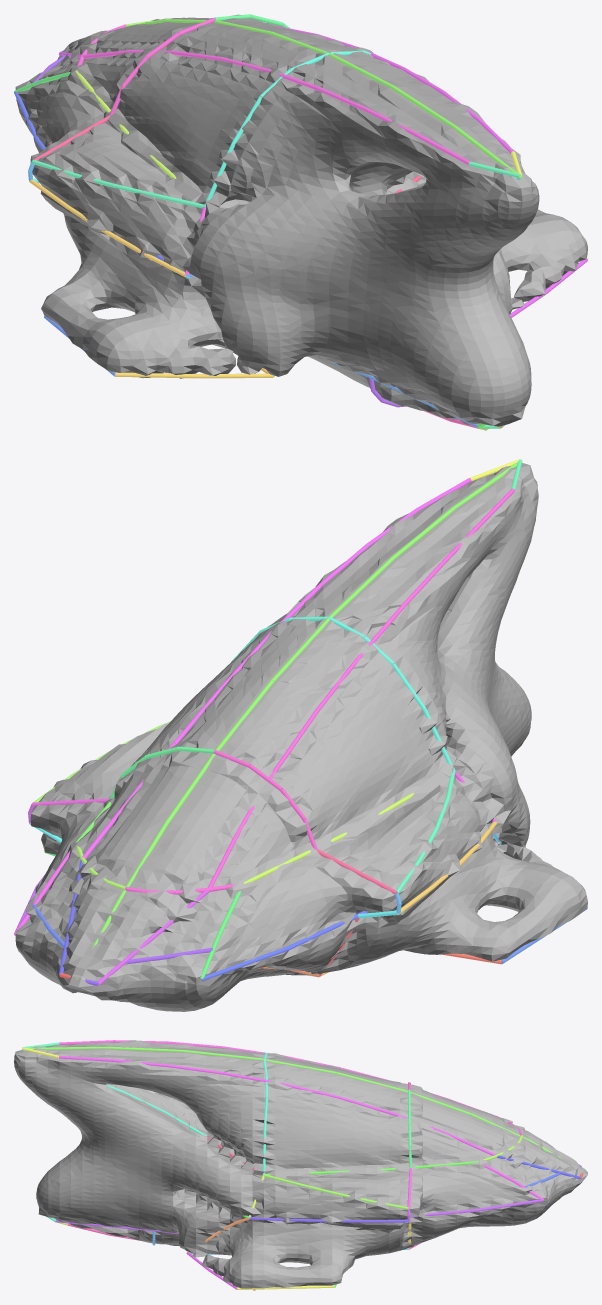
File: ils_spacecraft_78.gltf
3 views of the same model, one above another, from view 1: azimuth 30°, elevation 25°; view 2: azimuth 150°, elevation 25°; view 3: azimuth 270°, elevation 25° (orthographic). The views are drawn at different scales.
Size of the model in its own units: 0.5084 by 0.3206 by 0.8262.
